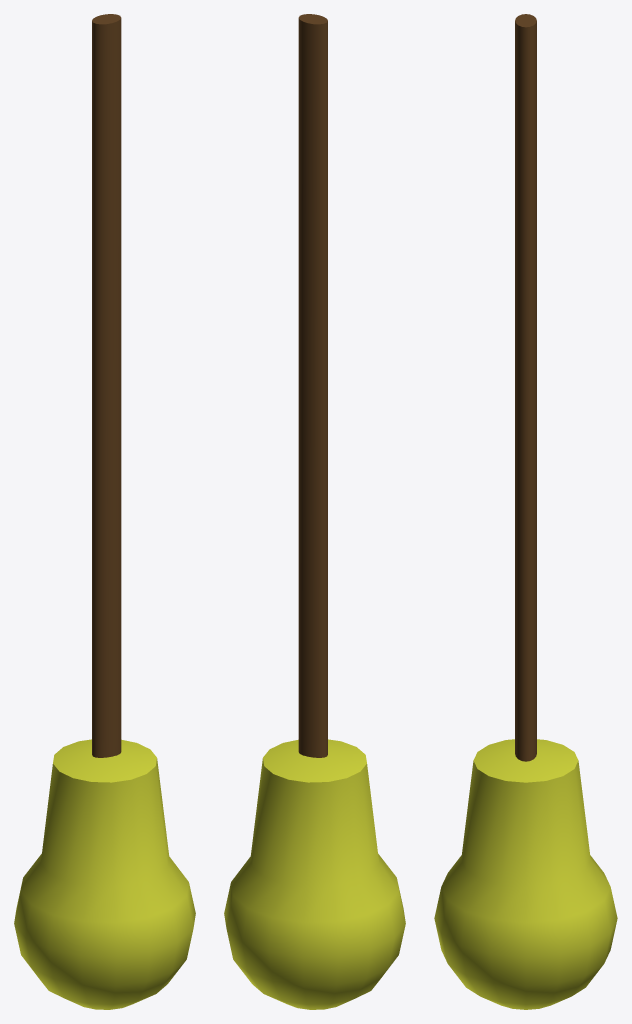
Rendered from lights Long cable.fbx.
3 views of the same model, side by side, from view 1: azimuth 30°, elevation 25°; view 2: azimuth 150°, elevation 25°; view 3: azimuth 270°, elevation 25° (orthographic).
Parts seen in each view (by area): view 1: Sphere, Cylinder_5; view 2: Sphere, Cylinder_5; view 3: Sphere, Cylinder_5.
Boxes of the visible parts, x1,y1,x2,y2 form: Sphere: (14, 739, 195, 1009); Cylinder_5: (92, 14, 121, 757); Sphere: (224, 739, 405, 1009); Cylinder_5: (298, 14, 327, 757); Sphere: (434, 739, 617, 1009); Cylinder_5: (515, 14, 536, 761).
Bounding box in the file's own units: 31.11 × 184 × 31.11.
